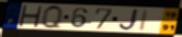6: (71, 7, 89, 29)
7: (93, 8, 115, 30)
H: (17, 4, 44, 28)
I: (138, 9, 151, 32)
J: (117, 8, 140, 31)
Q: (42, 4, 65, 30)
